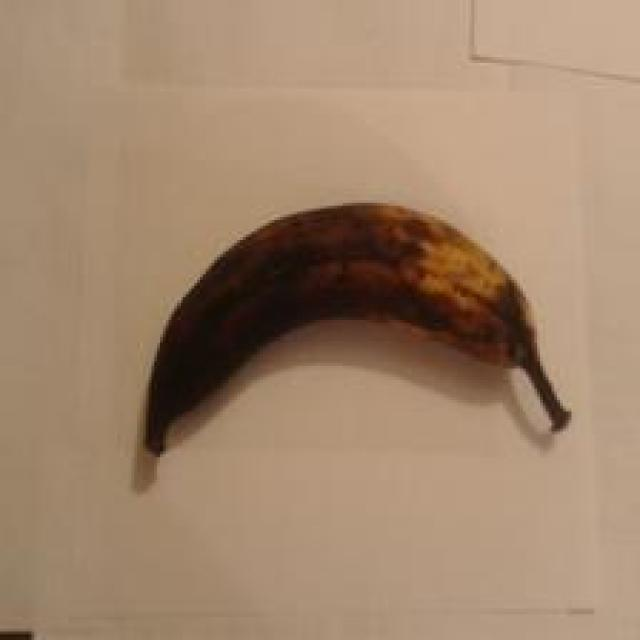Rotten_Banana: (108, 187, 594, 478)
